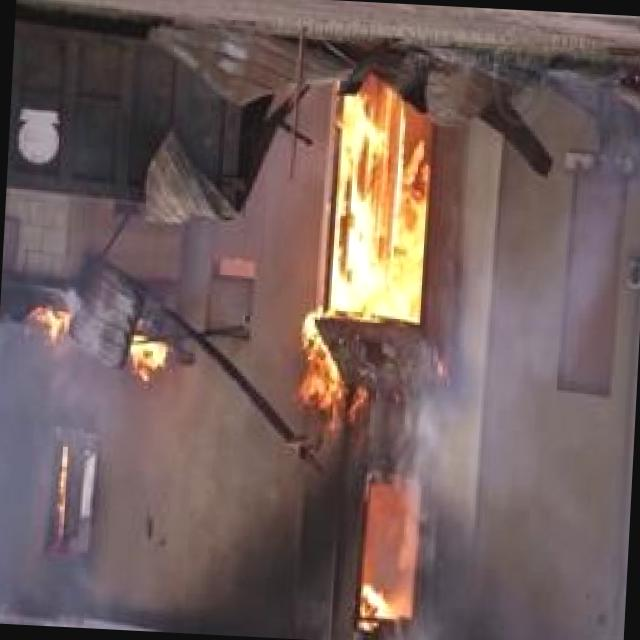fire: (313, 104, 436, 328), (340, 470, 429, 640)
